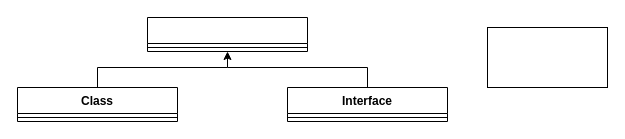
Image size: 625x139. Some labels were removed from this diagram. Each missing label, with the centre of its shape:
"Thing" goes at point 227,34.
"類,接口都是 一種事物" goes at point 547,57.
